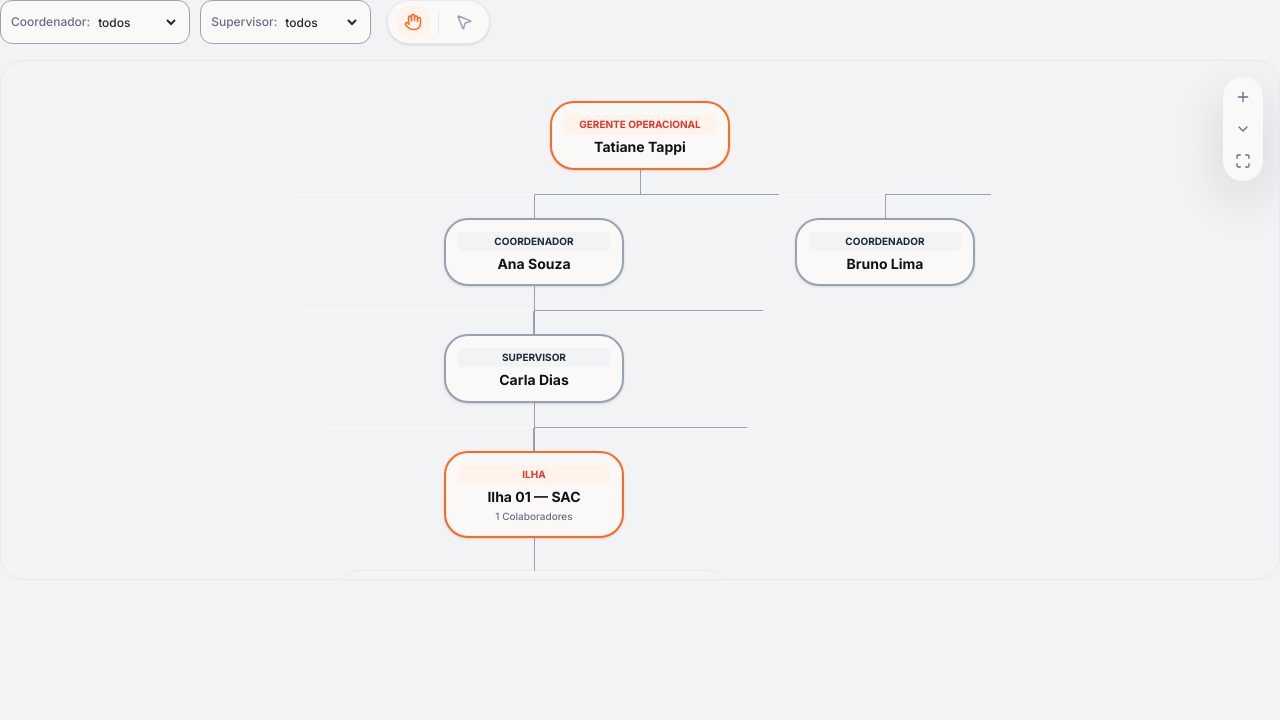
Organograma › preserva o filtro por coordenador
Expected: the text "Tatiane Tappi" is shown, [594,138,686,155]
Expected: the text "Ana Souza" is shown, [497,254,571,272]
Step 1. Select "Bruno Lima" in the dropdown labelled "Coordenador" → x=137, y=22, box [94,14,179,30]
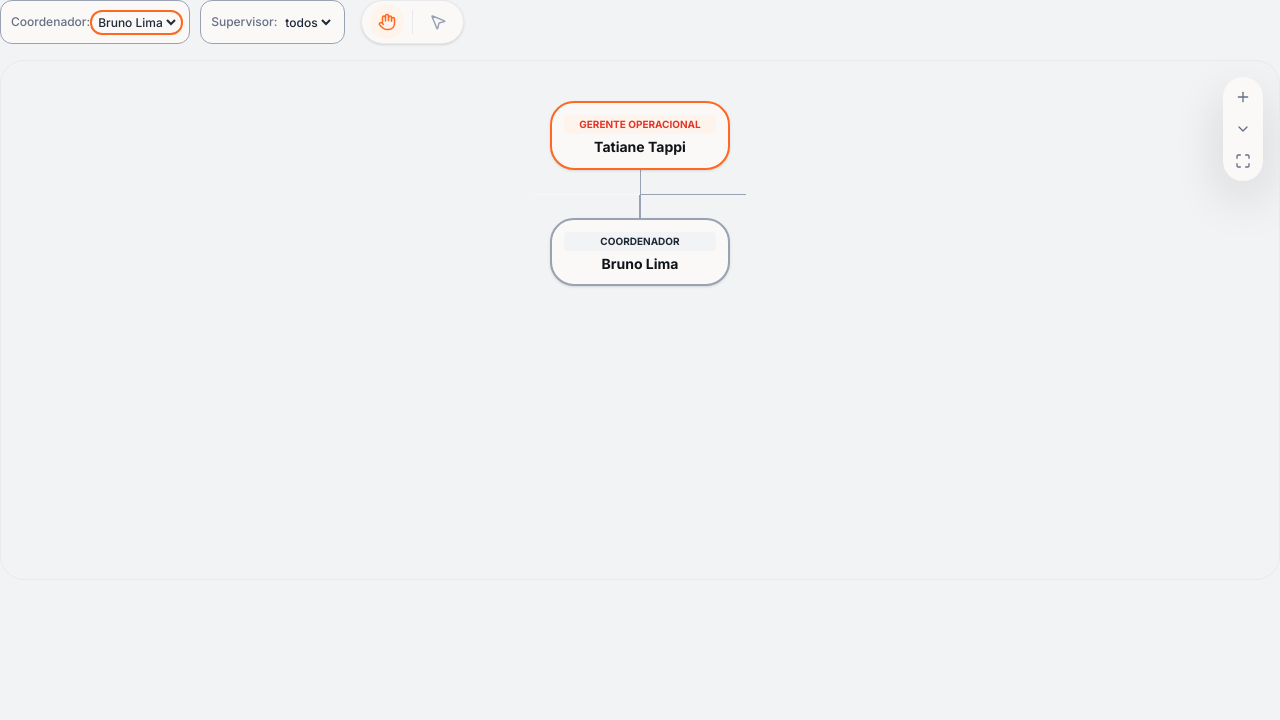
Expected: the text "Bruno Lima" is shown, [602,254,678,272]
Expected: the text "Ana Souza" is gone
